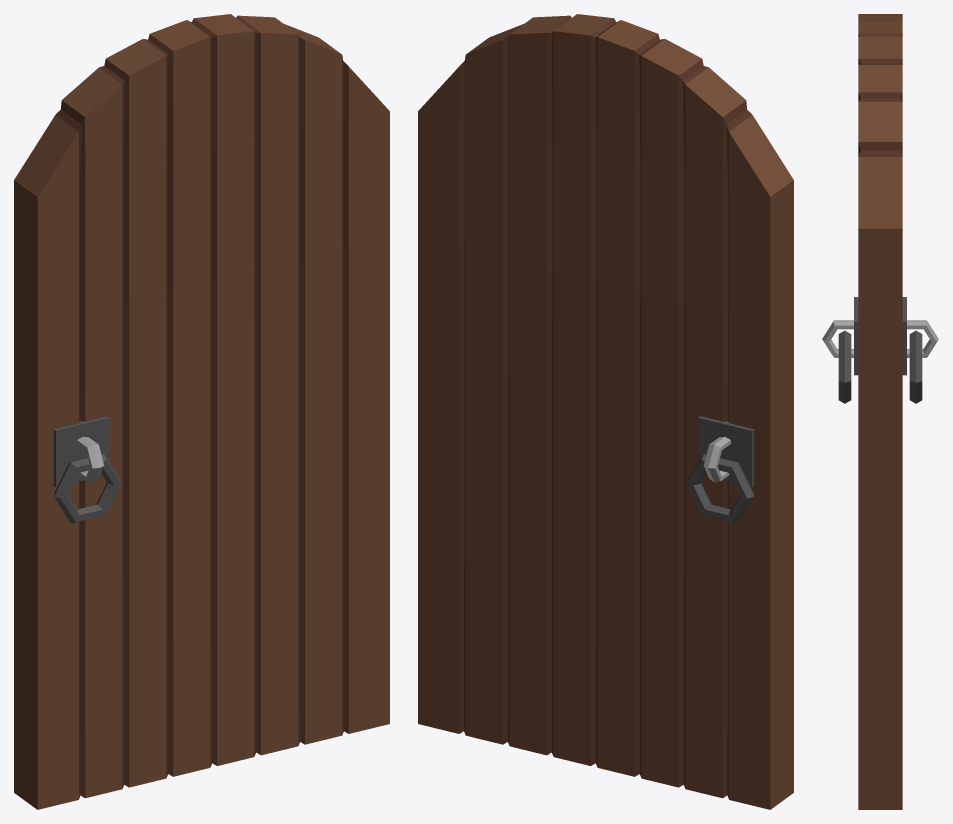
File: SingleDoor.fbx
The picture shows the model from 3 angles, left to right: view 1: azimuth 30°, elevation 25°; view 2: azimuth 150°, elevation 25°; view 3: azimuth 270°, elevation 25°; orthographic projection. The views are drawn at different scales.
Parts seen in each view (by area): view 1: SingleDoor; view 2: SingleDoor; view 3: SingleDoor.
Boxes of the visible parts, x1,y1,x2,y2 form: SingleDoor: [14, 14, 389, 809]; SingleDoor: [418, 14, 793, 809]; SingleDoor: [822, 14, 938, 809].
Bounding box in the file's own units: 118 × 234 × 35.68.
